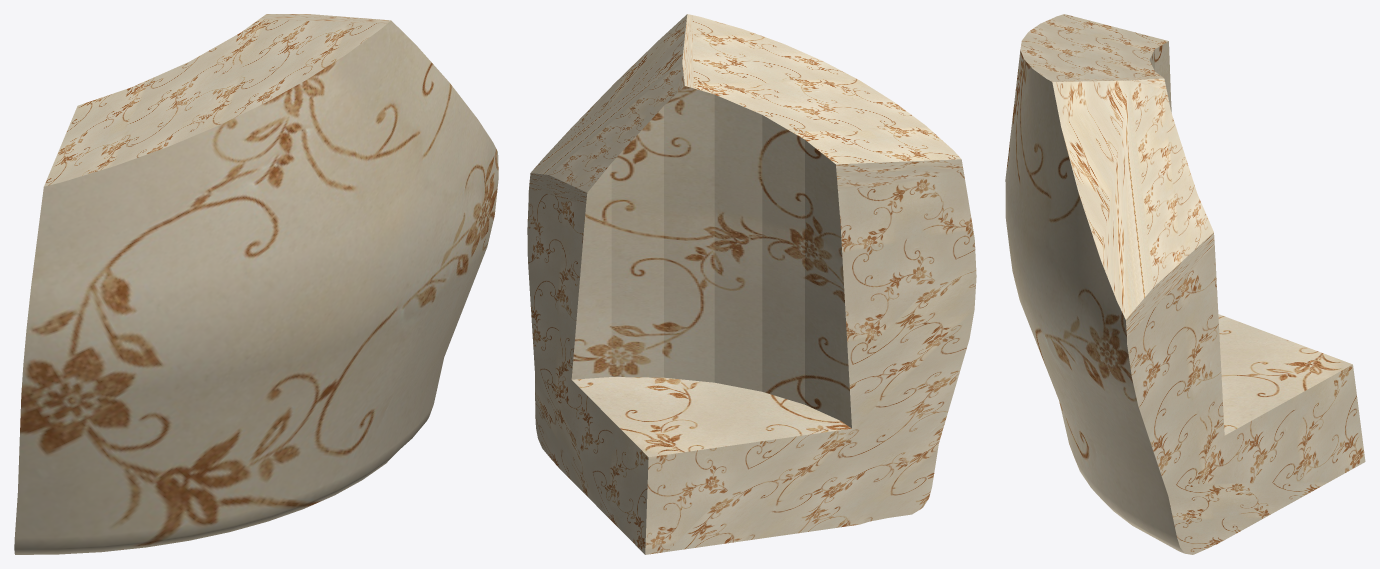
3 views of the same model, side by side, from view 1: azimuth 30°, elevation 25°; view 2: azimuth 150°, elevation 25°; view 3: azimuth 270°, elevation 25° (orthographic). The views are drawn at different scales.
Parts seen in each view (by area): view 1: Cylinder_cell.002; view 2: Cylinder_cell.002; view 3: Cylinder_cell.002.
Boxes of the visible parts, x1=… form: Cylinder_cell.002: x1=14, y1=14, x2=498, y2=554; Cylinder_cell.002: x1=527, y1=14, x2=976, y2=554; Cylinder_cell.002: x1=1005, y1=14, x2=1365, y2=554.
Bounding box in the file's own units: 1.17 × 1.09 × 0.8158.
1 material, 1 textured.
